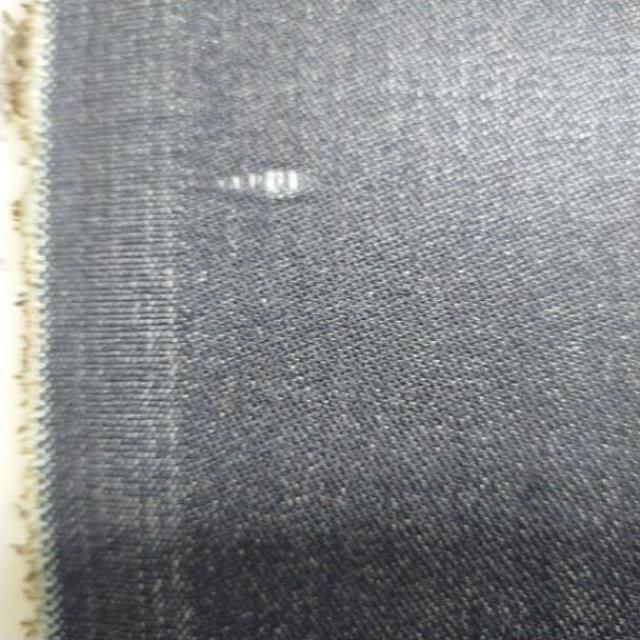Knot: (217, 168, 318, 198)
